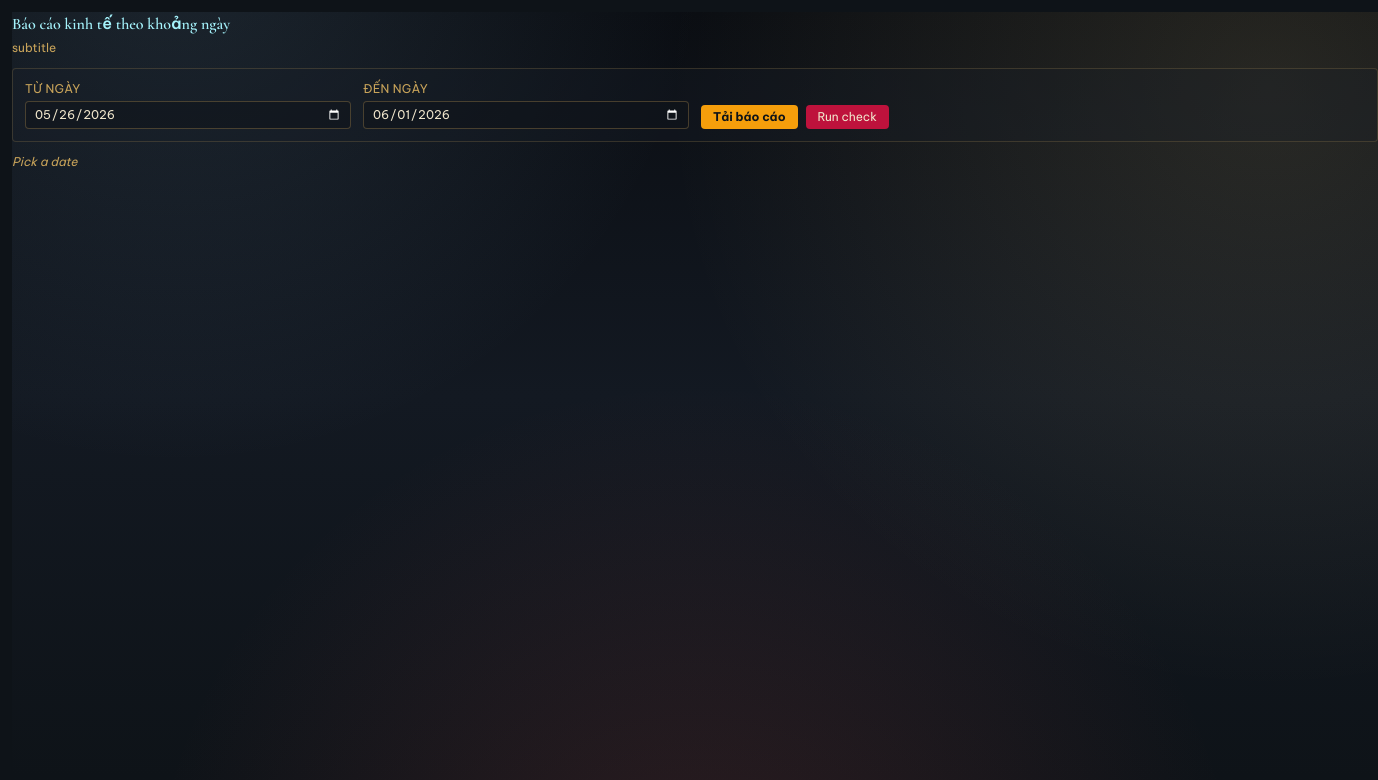
Test: AdminEconomyRangeReportPanel › empty data report shows "no flow" message
This screenshot has width=1378, height=780.
Click the button with test id "admin-economy-range-report-load-btn".
click(749, 117)  # box top-left (701, 105), bottom-right (798, 129)
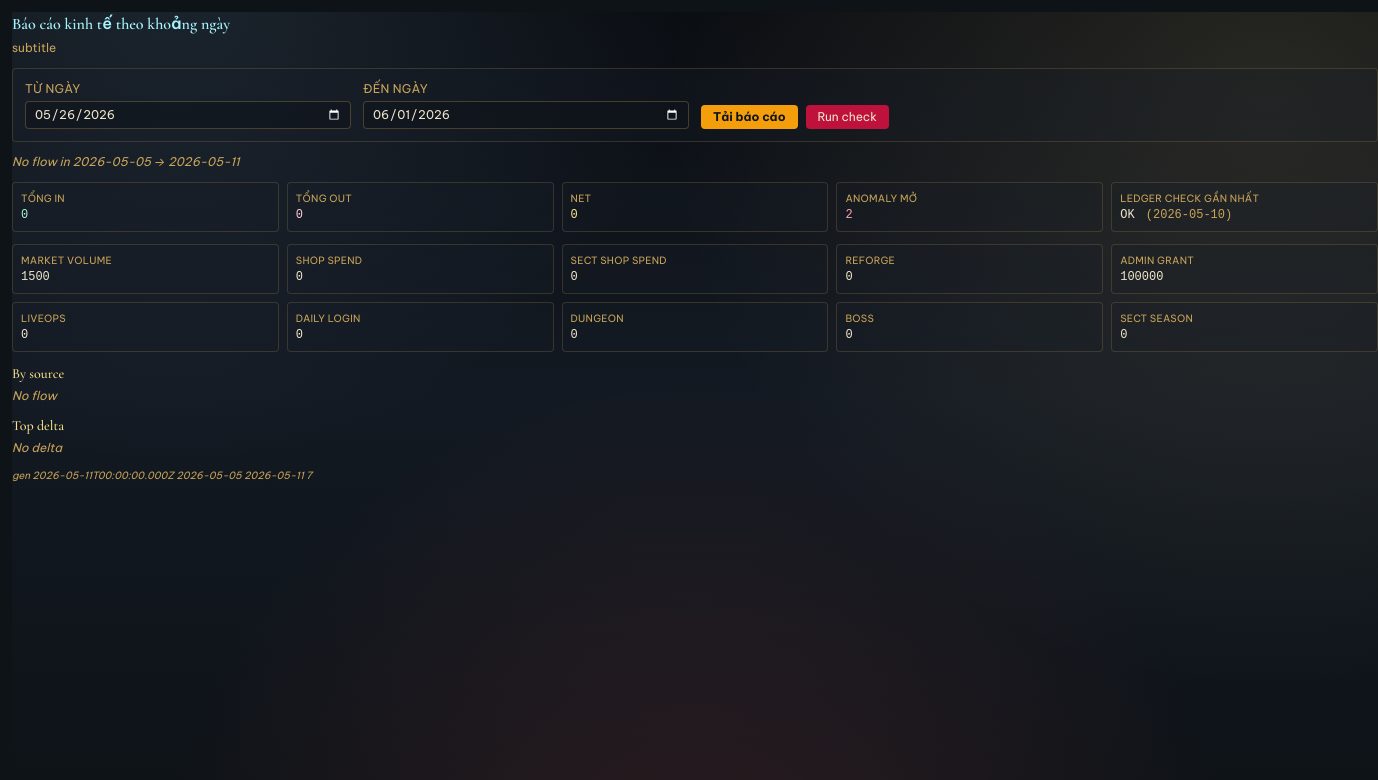
Expected: the text "No flow in 2026-05-05 → 2026-05-11" is shown, top-left (12, 154), bottom-right (240, 169)
